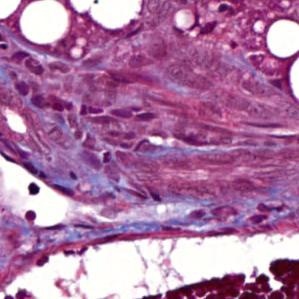steatosis: (21, 0, 70, 45)
